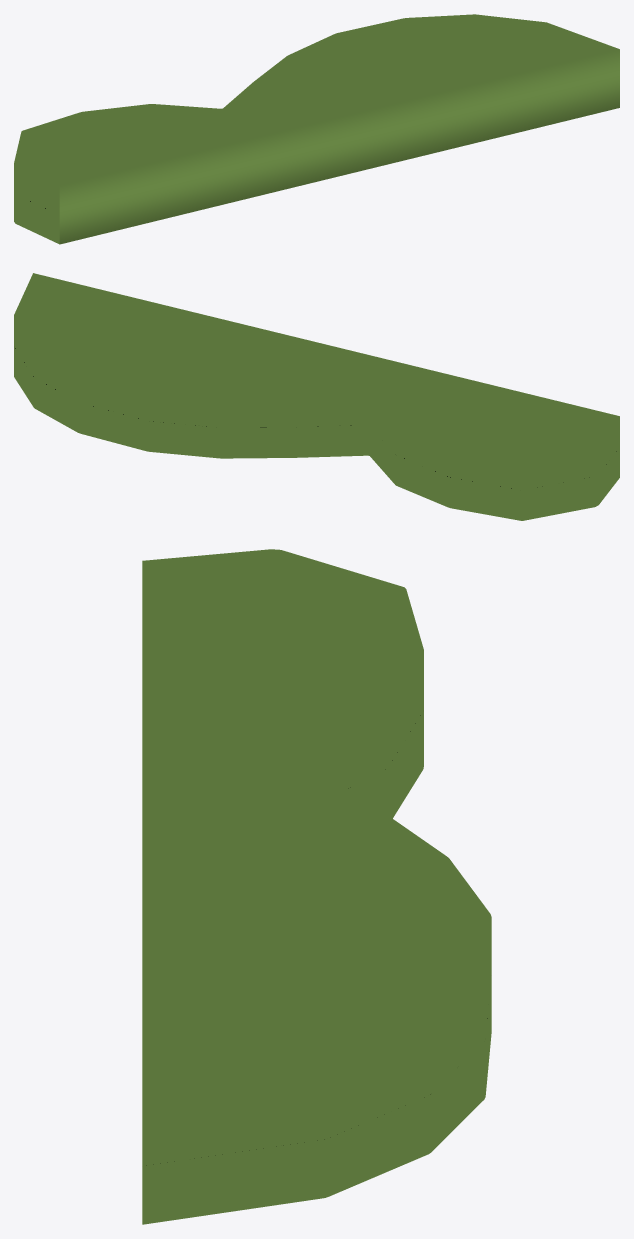
The model's file is backbackhillleft.fbx.
The picture shows the model from 3 angles, top to bottom: view 1: azimuth 30°, elevation 25°; view 2: azimuth 150°, elevation 25°; view 3: azimuth 270°, elevation 25°; orthographic projection. The views are drawn at different scales.
Visible parts, largest first — view 1: backbackhillsleft1; view 2: backbackhillsleft1; view 3: backbackhillsleft1.
Part boxes in pixels (left/top/right/bottom): backbackhillsleft1: left=14, top=14, right=619, bottom=244; backbackhillsleft1: left=14, top=273, right=619, bottom=520; backbackhillsleft1: left=142, top=549, right=491, bottom=1224.
Bounding box in the file's own units: 0.2042 × 0.02 × 0.054.
